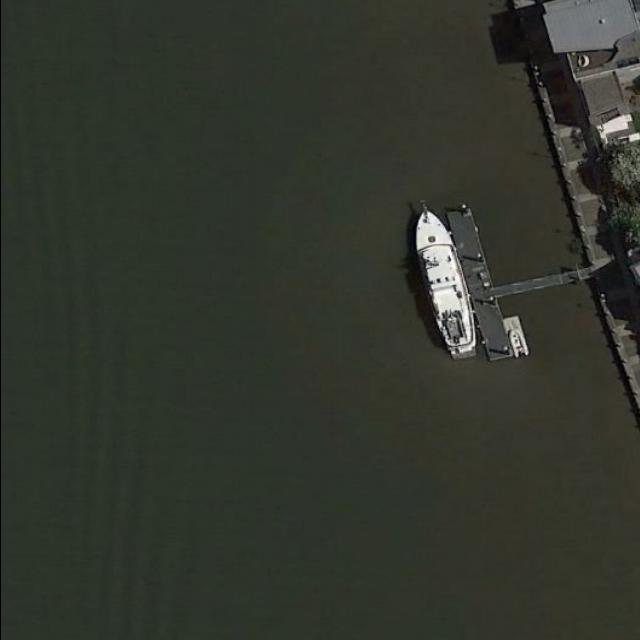ship: (410, 210, 480, 362)
